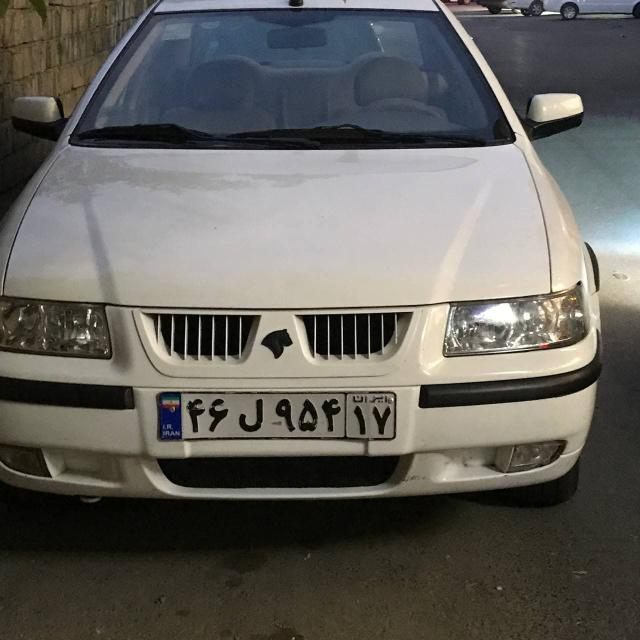Plates: (159, 391, 396, 441)
